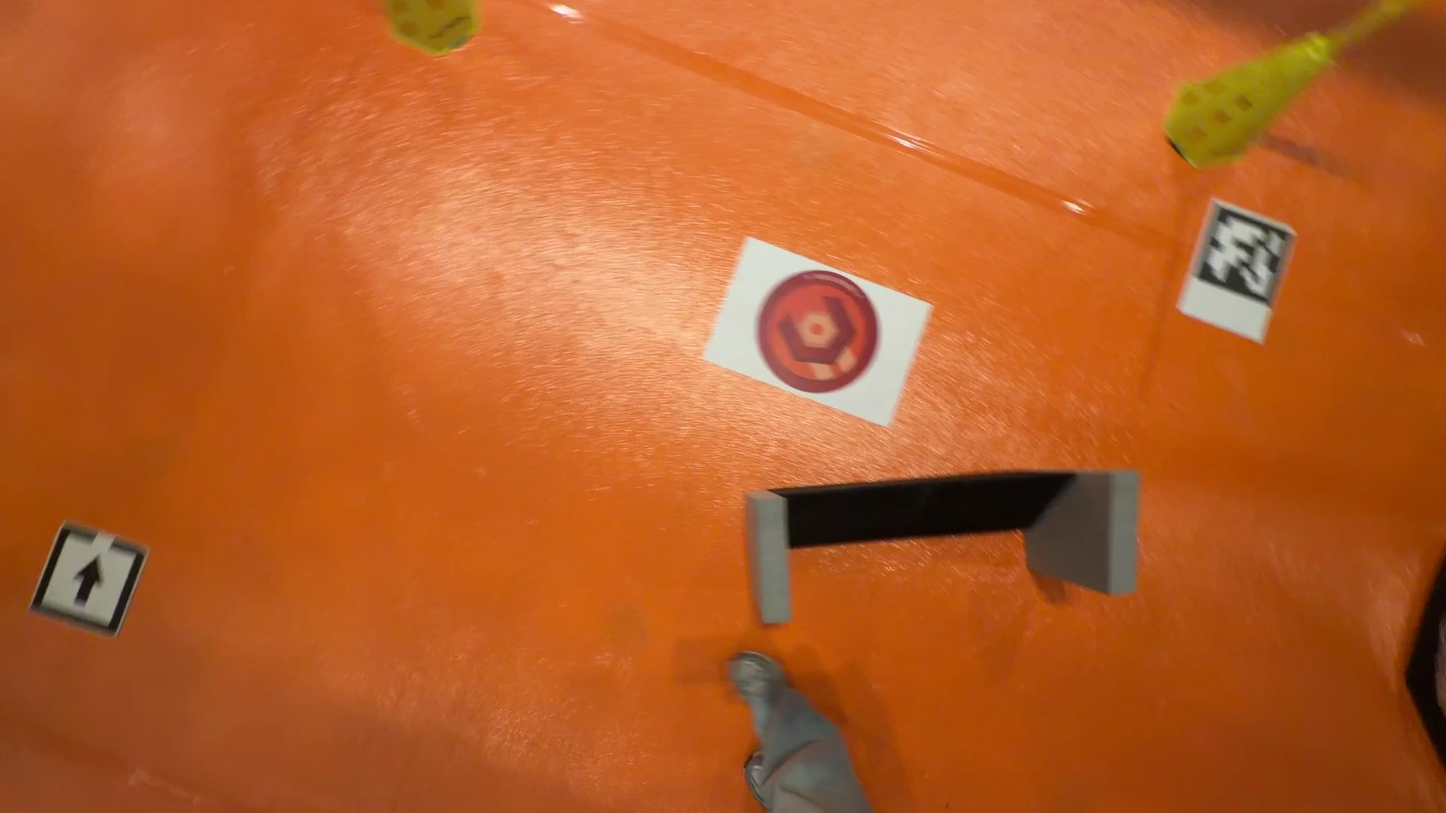landing_pad: (754, 270, 883, 397)
